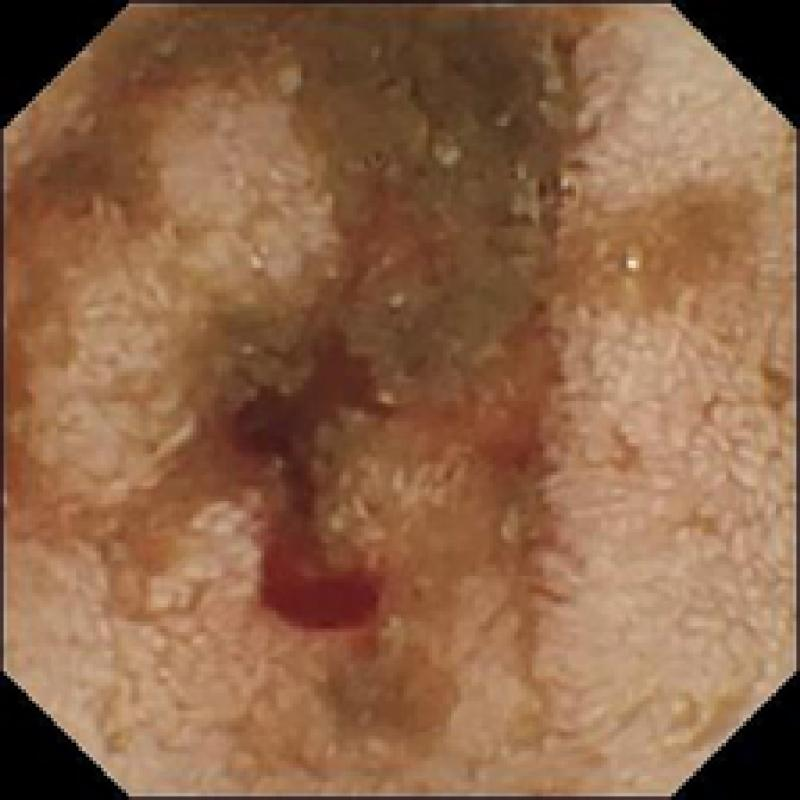bleeding: (218, 332, 375, 625)
